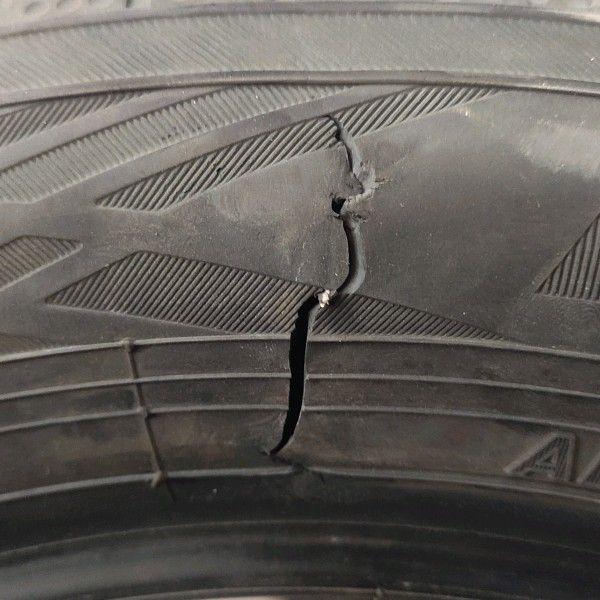cut: (256, 112, 377, 453)
